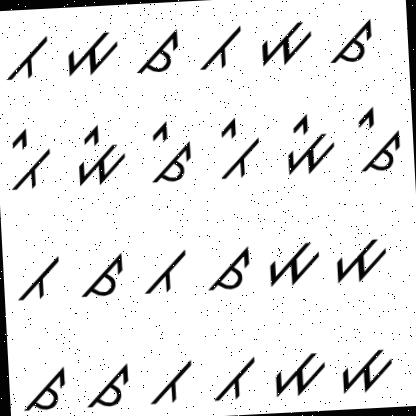ba: (0, 25, 51, 88), (142, 353, 196, 411), (10, 249, 63, 305), (207, 352, 258, 409), (197, 20, 249, 75), (140, 244, 190, 297)
bi: (214, 113, 268, 186), (3, 124, 56, 192)
ca: (200, 240, 257, 297), (324, 12, 379, 66), (126, 25, 184, 75), (80, 358, 132, 410), (77, 248, 128, 301), (18, 367, 72, 413)
ci: (351, 102, 405, 176), (145, 119, 200, 189)
ma: (252, 13, 319, 70), (329, 226, 391, 286), (263, 234, 325, 292), (266, 342, 328, 398), (60, 26, 122, 78), (336, 344, 398, 395)
mi: (276, 108, 340, 180), (69, 120, 131, 188)
